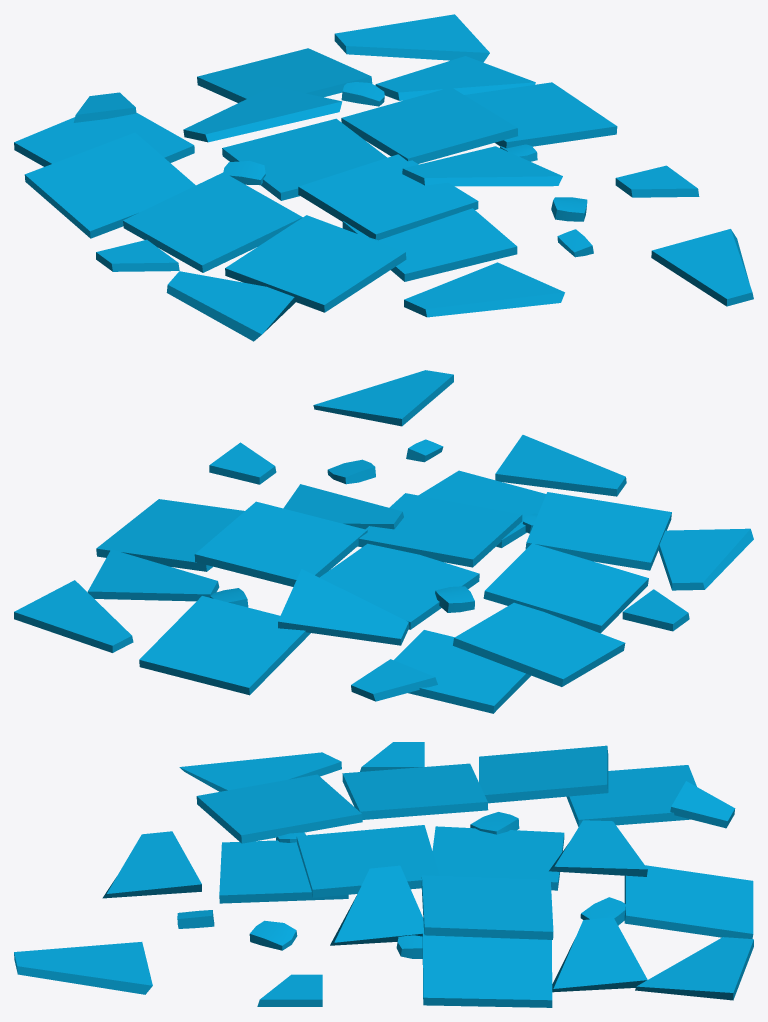
File: Debris_Tile_01B.fbx
3 views of the same model, one above another, from view 1: azimuth 30°, elevation 25°; view 2: azimuth 150°, elevation 25°; view 3: azimuth 270°, elevation 25° (orthographic).
Parts seen in each view (by area): view 1: Debris_Tile_01B; view 2: Debris_Tile_01B; view 3: Debris_Tile_01B.
Boxes of the visible parts, x1,y1,x2,y2 form: Debris_Tile_01B: (14,14,753,341); Debris_Tile_01B: (14,370,753,713); Debris_Tile_01B: (14,742,753,1007).
Bounding box in the file's own units: 153 × 12.53 × 188.
